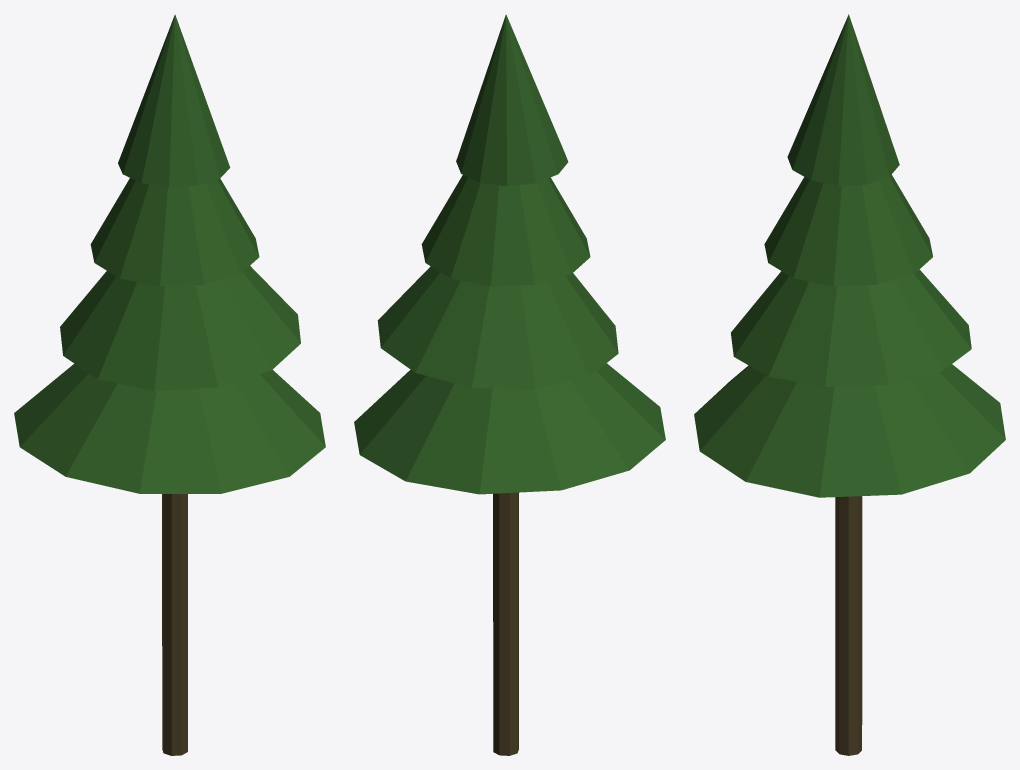
Rendered from tree02.fbx.
The picture shows the model from 3 angles, left to right: view 1: azimuth 30°, elevation 25°; view 2: azimuth 150°, elevation 25°; view 3: azimuth 270°, elevation 25°; orthographic projection.
Parts seen in each view (by area): view 1: tree02; view 2: tree02; view 3: tree02.
Boxes of the visible parts, x1,y1,x2,y2 form: tree02: [14, 14, 325, 755]; tree02: [354, 14, 665, 755]; tree02: [694, 14, 1005, 755].
Bounding box in the file's own units: 374 × 974 × 374.
